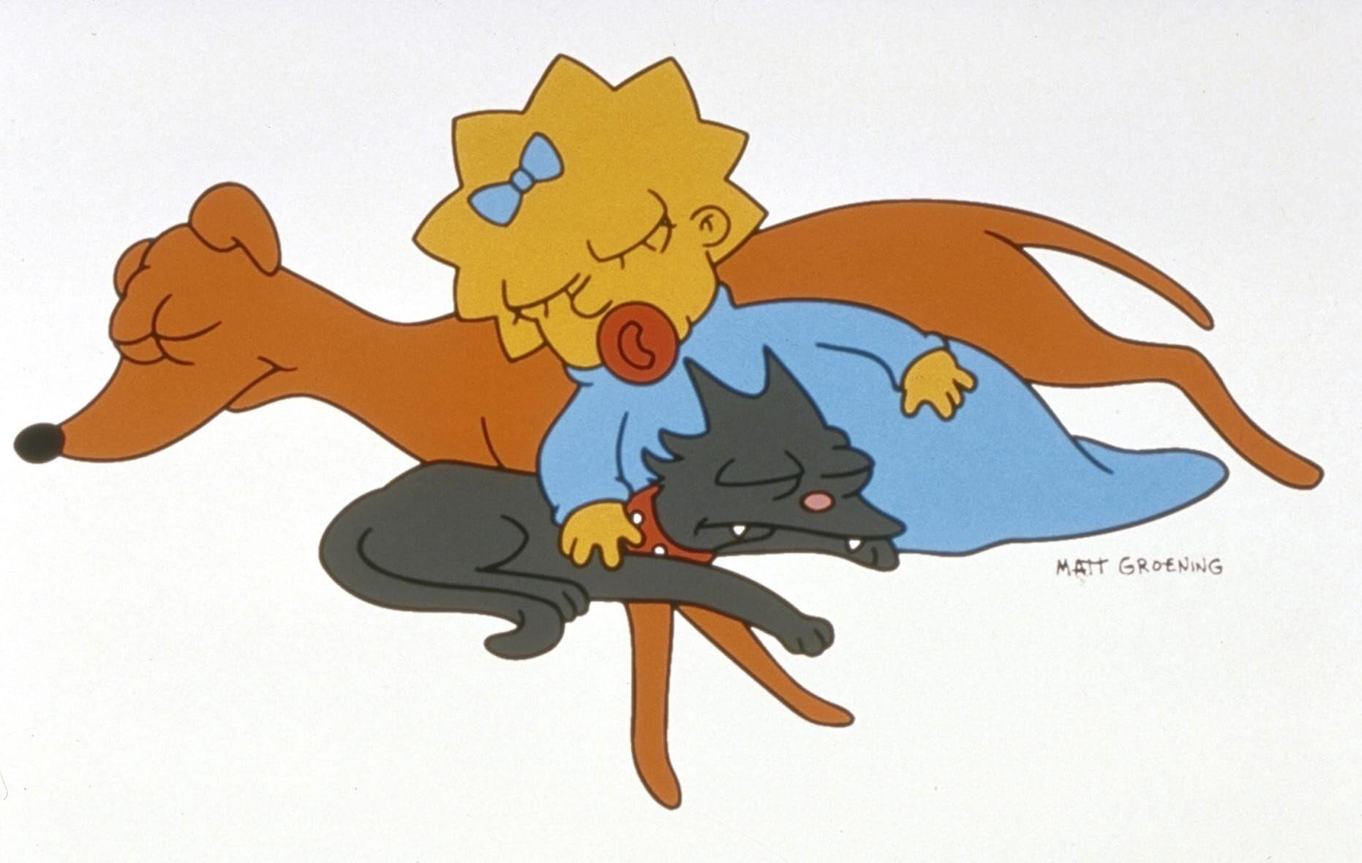Maggie: (393, 48, 1233, 562)
